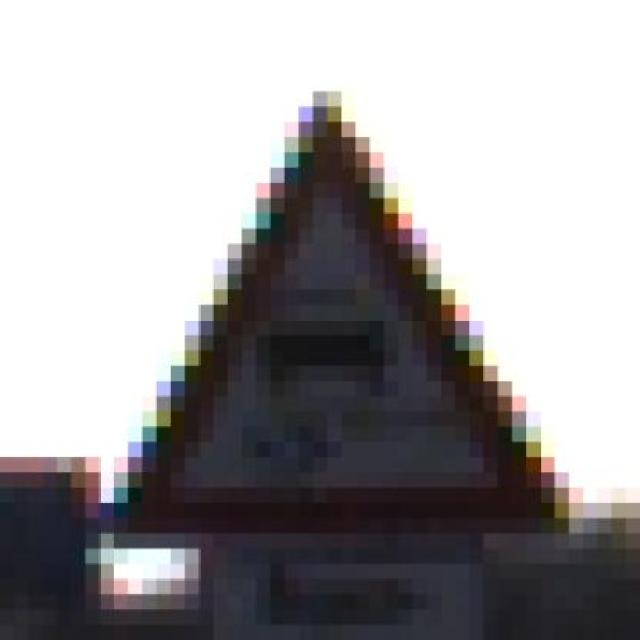Slippery Road Ahead: (71, 91, 583, 564)
